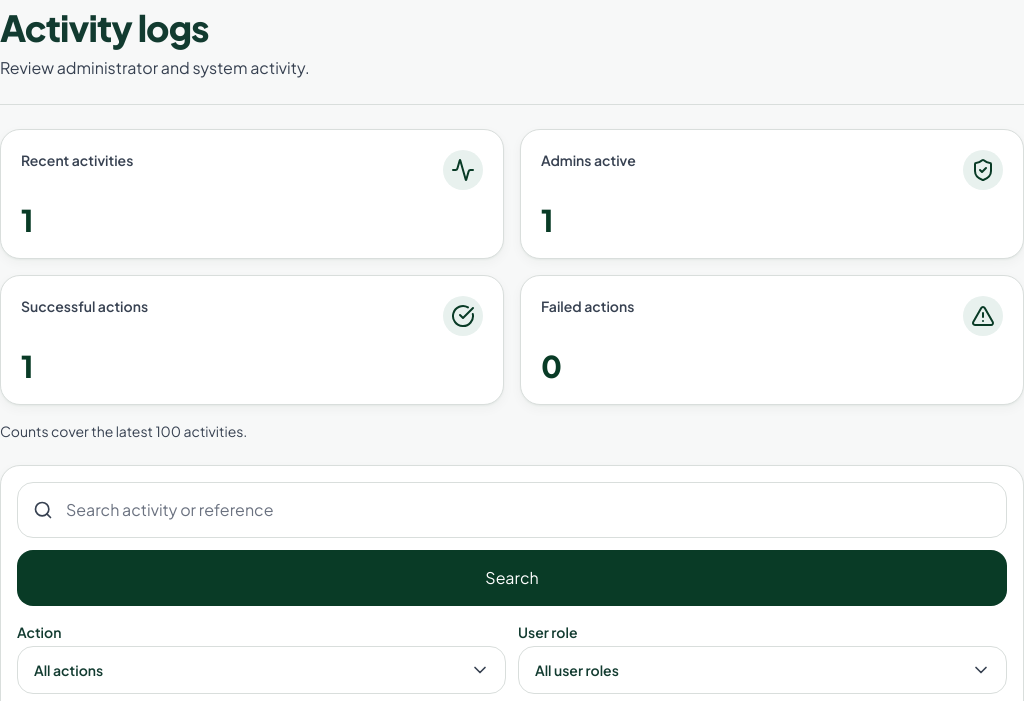
Test case: Admin audit log browser › renders a retryable error without exposing server details
In the search field named "Search activities": (512, 510) [17,482,1007,538], type "admin_01"
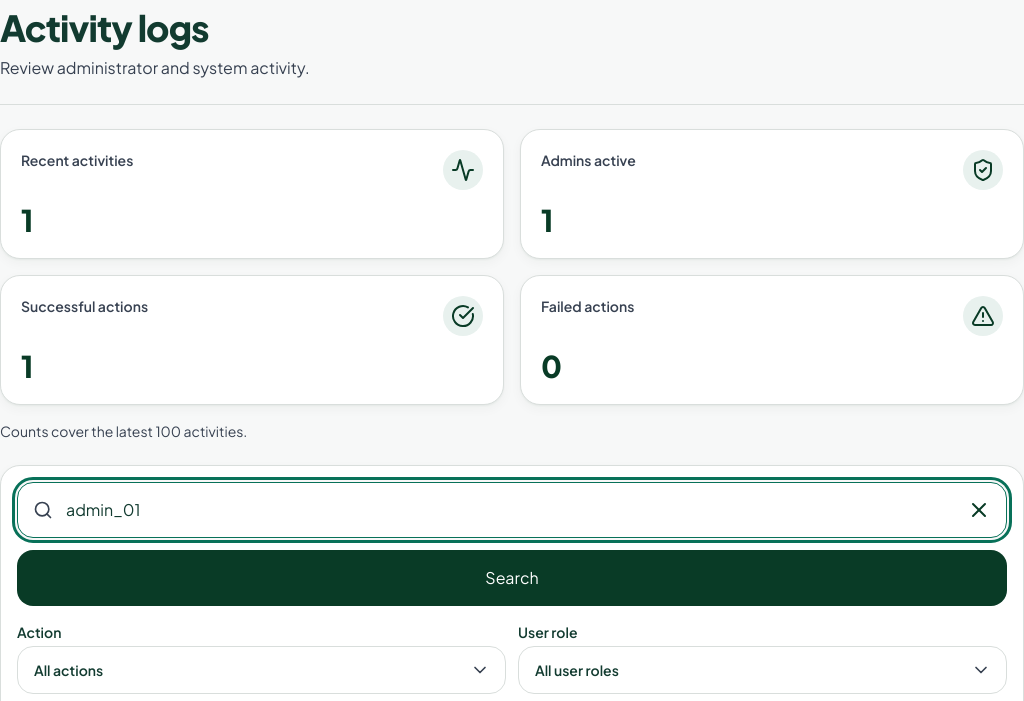
Click the button "Search": (512, 578) [17,550,1007,606]
(page scrolled)
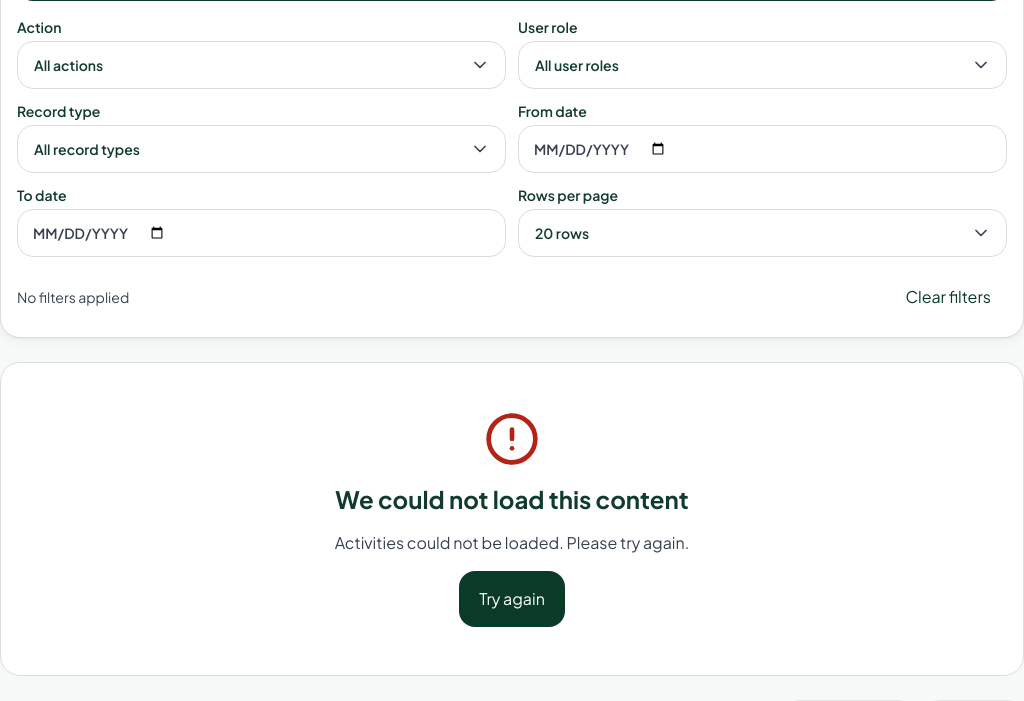
Check: the text "Activities could not be loaded. Please try again." is shown, box [335,531,689,555]
